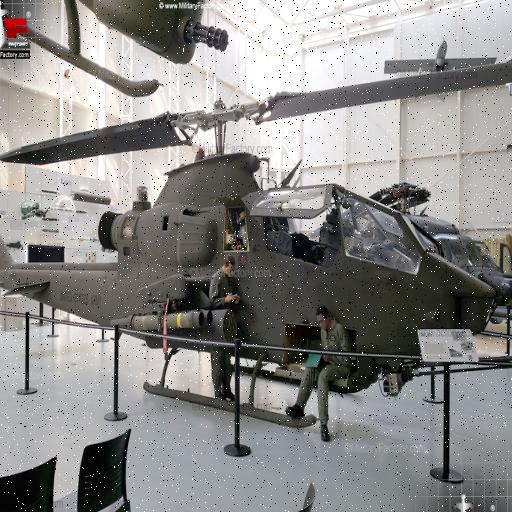helicopter: (1, 58, 503, 443)
